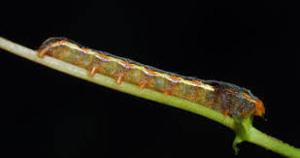fallarmy_worm: (32, 36, 270, 126)
